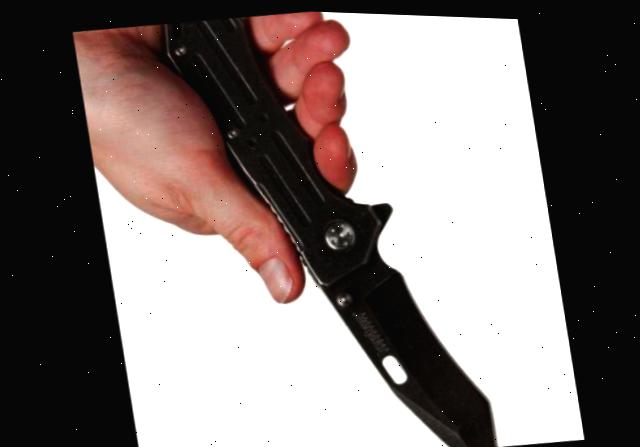pocket-knife: (152, 4, 499, 447)
